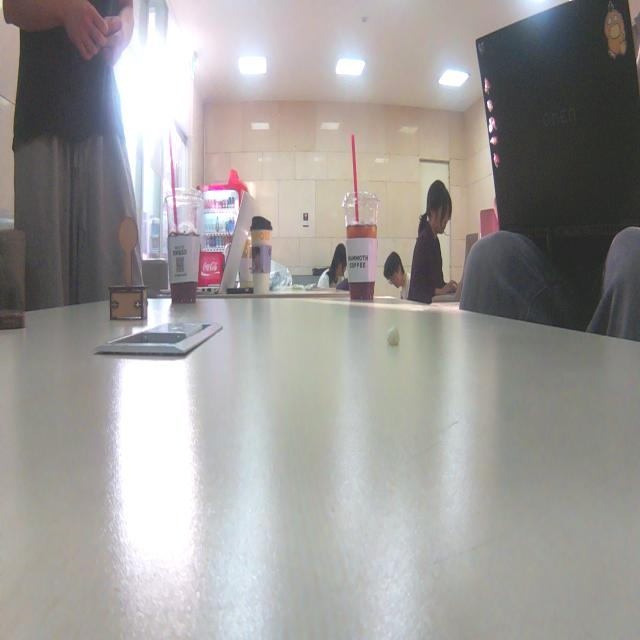target: (109, 216, 149, 323)
